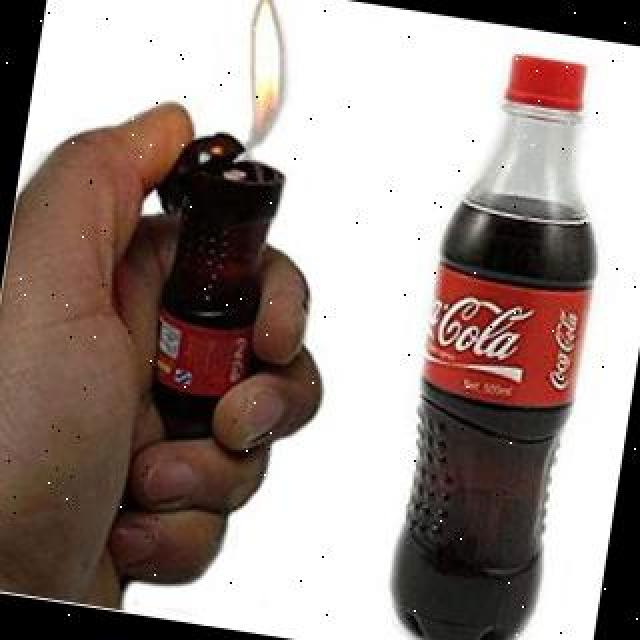coca-cola: (364, 36, 634, 640)
